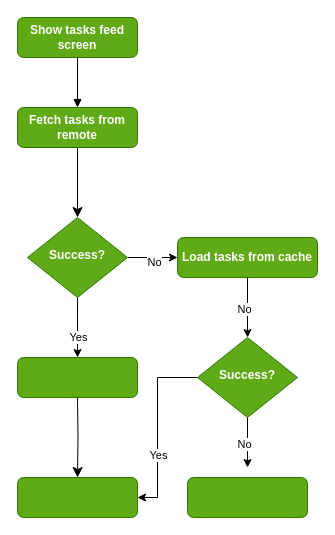
This 335x535 diagram has some shape labels left out. Each missing label, with the centre of its shape:
"Cache tasks feed" belongs at point (77, 377).
"Display error" belongs at point (247, 497).
"Display tasks feed" belongs at point (77, 497).
